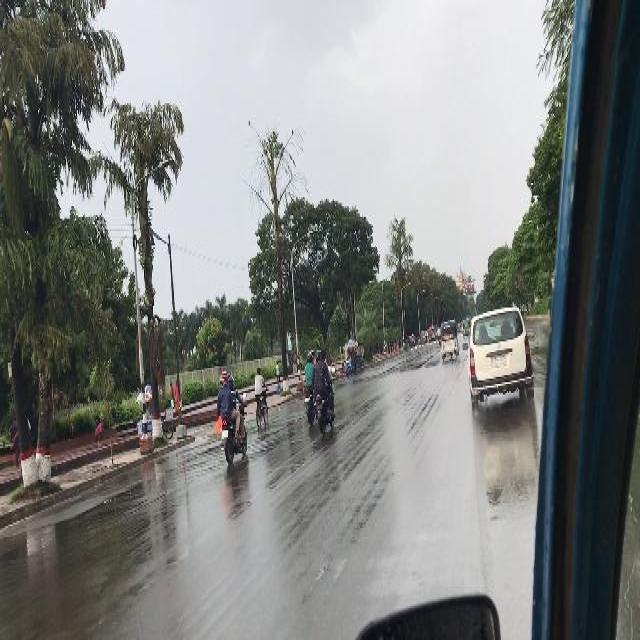bicycle: (254, 366, 268, 428)
car: (470, 302, 532, 402)
motorbike: (217, 369, 249, 463), (314, 348, 334, 434), (304, 349, 314, 426), (436, 324, 440, 344)
rickshaw: (420, 327, 426, 345)
three wheelers -CNG-: (439, 316, 458, 362), (462, 316, 470, 334)
